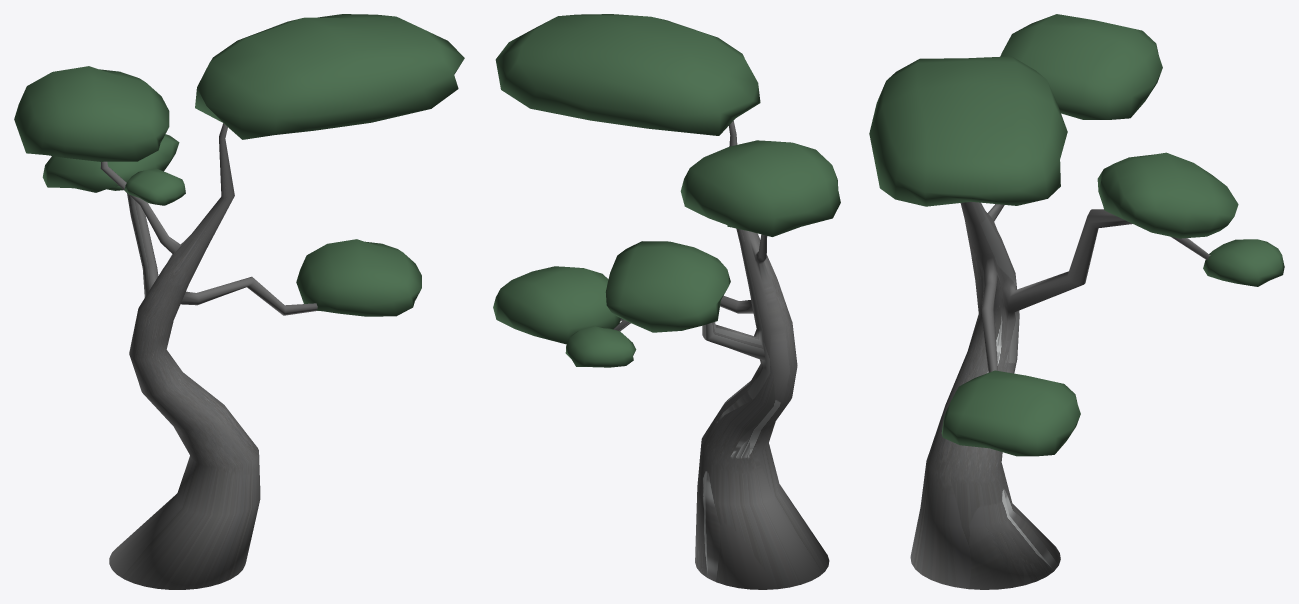
File: tree.fbx
3 views of the same model, side by side, from view 1: azimuth 30°, elevation 25°; view 2: azimuth 150°, elevation 25°; view 3: azimuth 270°, elevation 25° (orthographic). The views are drawn at different scales.
Visible parts, largest first — view 1: arbol.005; view 2: arbol.005; view 3: arbol.005.
Boxes of the visible parts, bbox=[...] form: arbol.005: bbox=[14, 14, 464, 589]; arbol.005: bbox=[493, 14, 840, 589]; arbol.005: bbox=[869, 14, 1284, 589].
Bounding box in the file's own units: 462 × 591 × 403.
2 materials, 1 textured.
